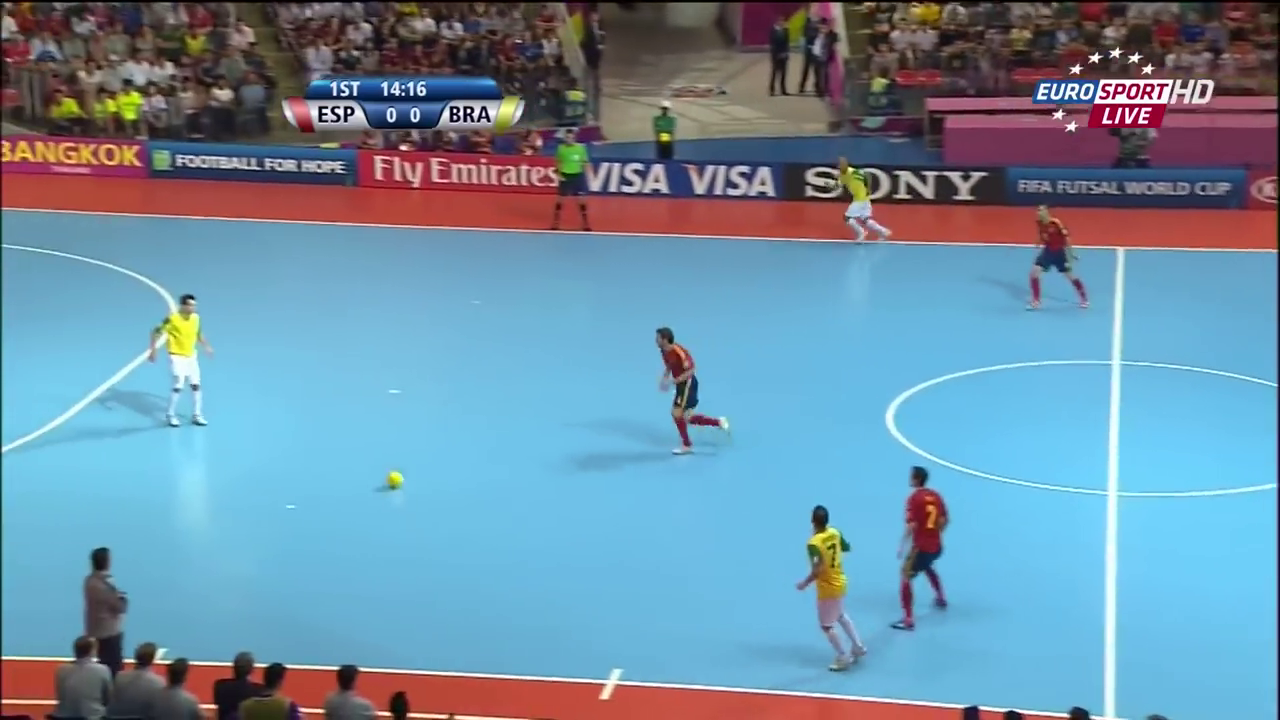ball: (382, 465, 403, 490)
person: (791, 500, 869, 672), (641, 324, 737, 459), (892, 465, 948, 634), (147, 291, 216, 427), (1020, 201, 1095, 317), (824, 158, 902, 244)
